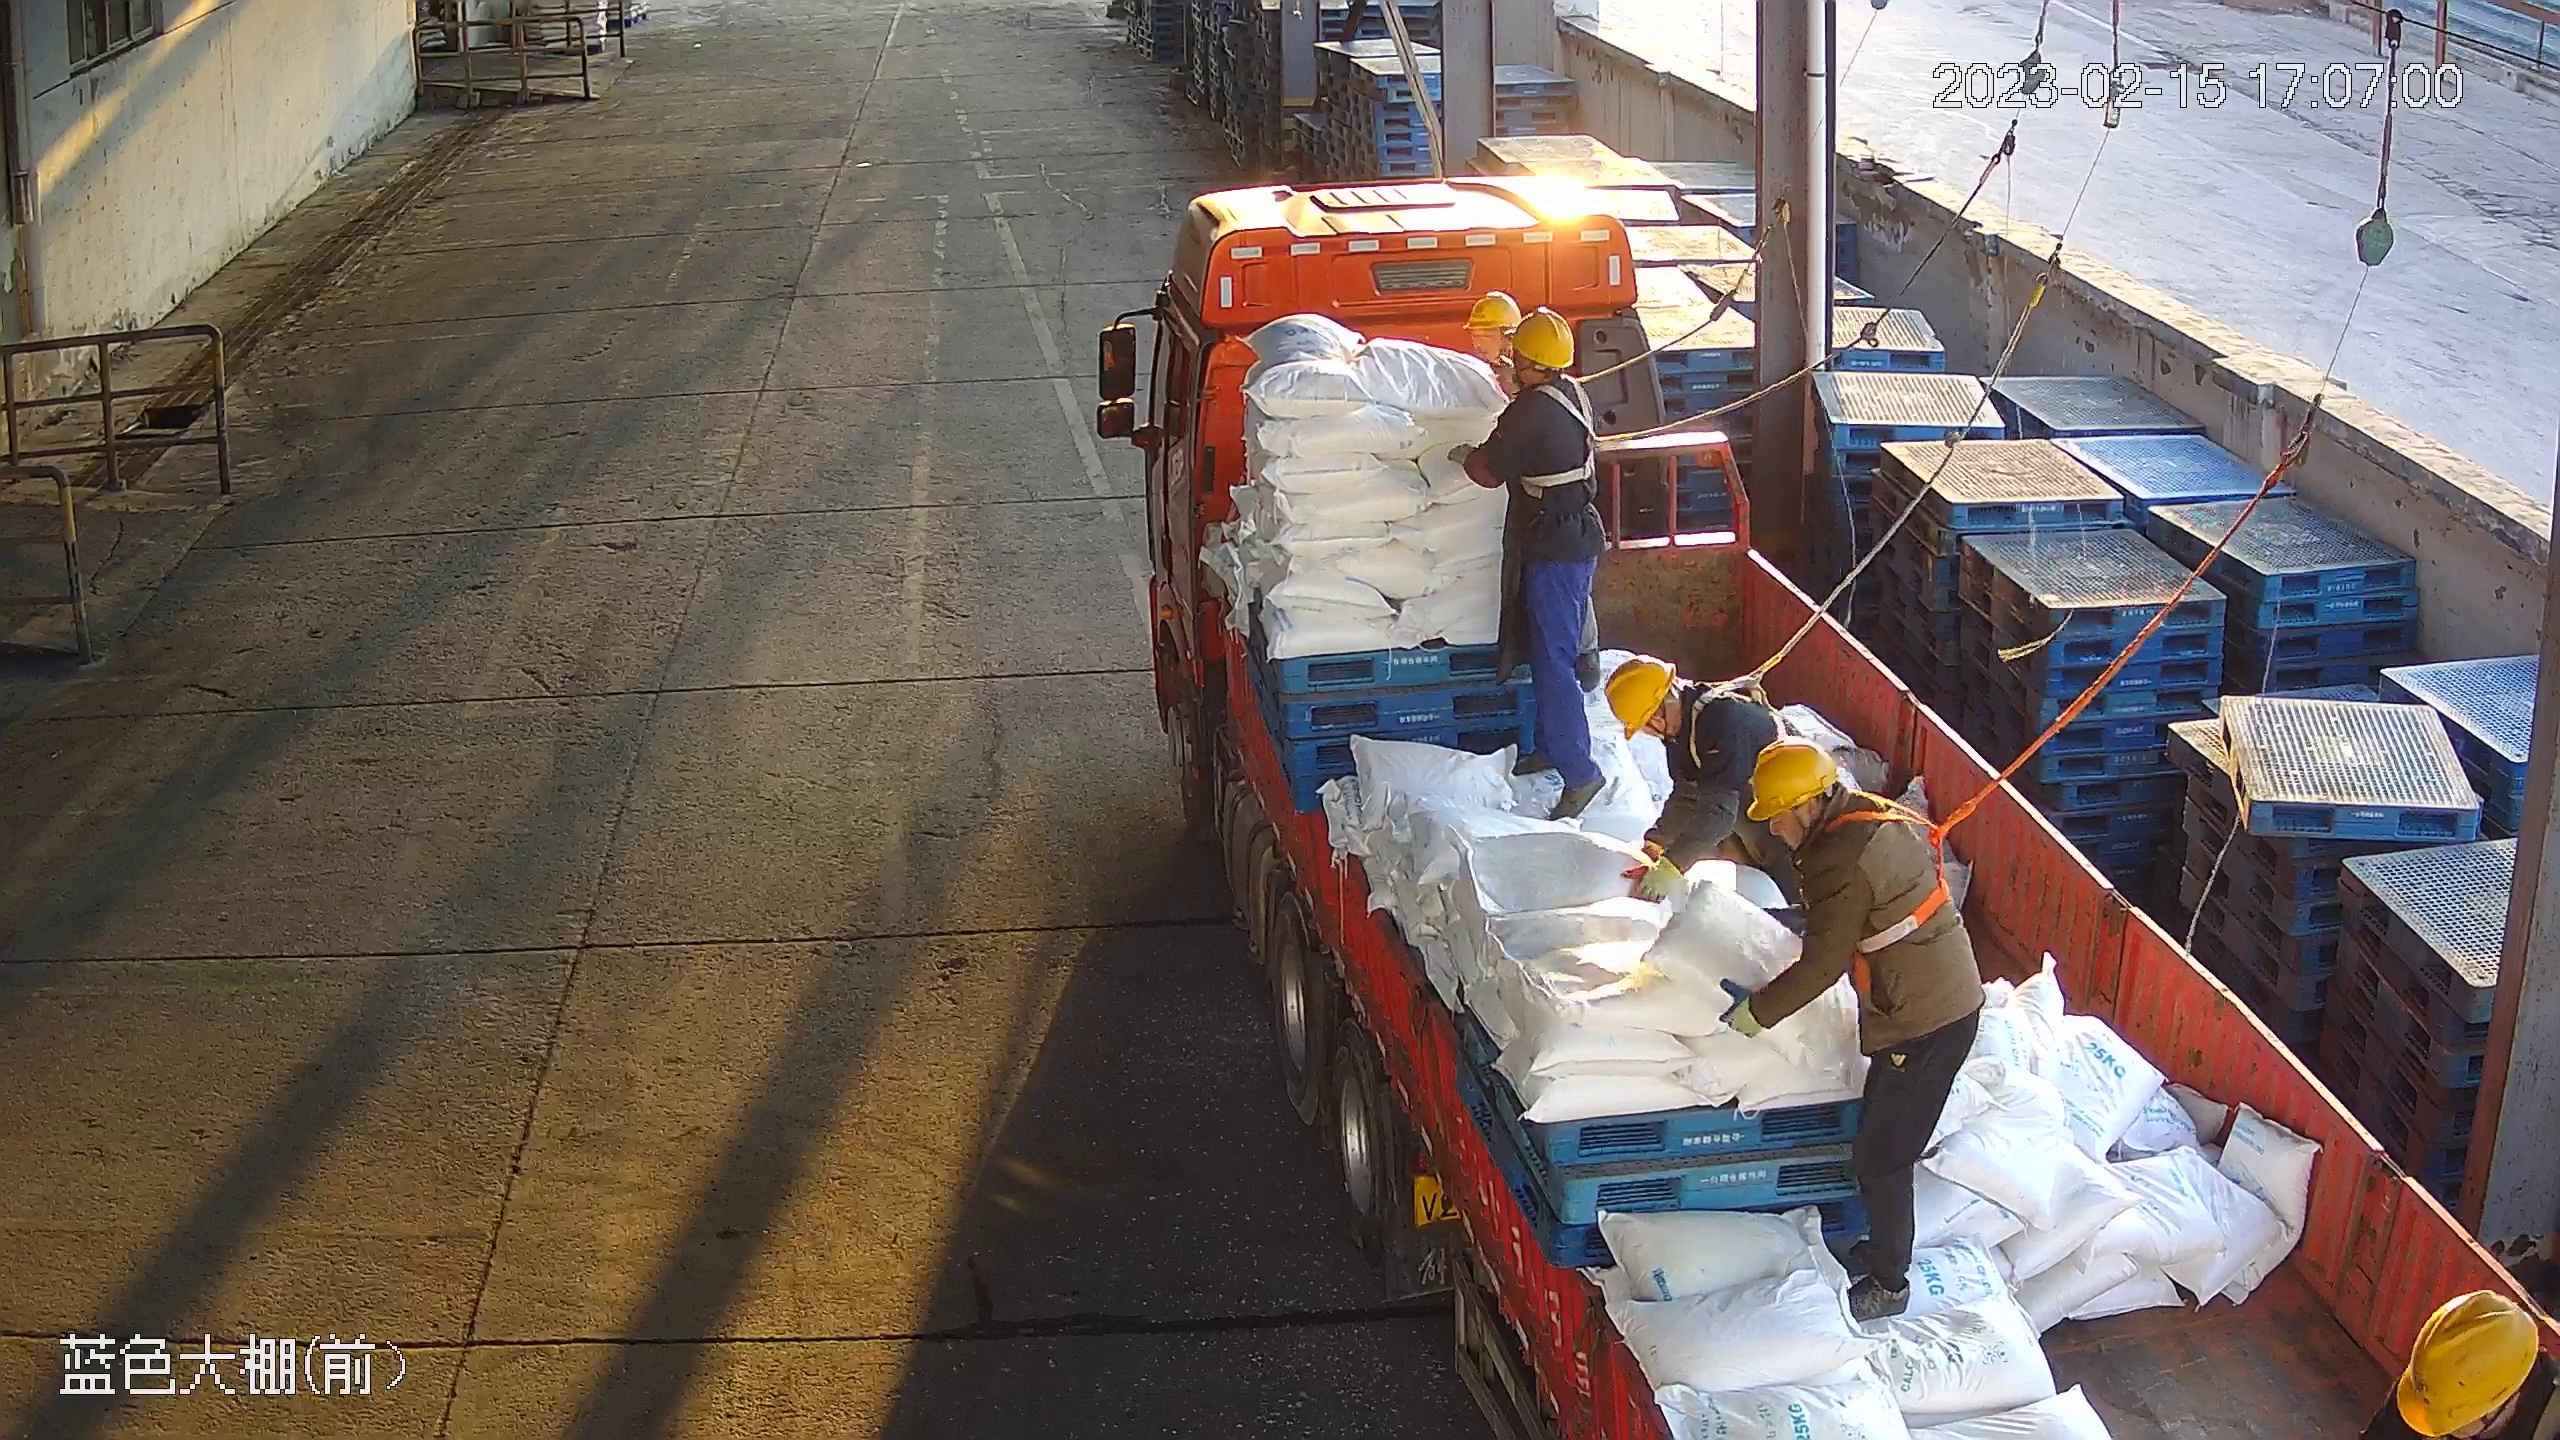belt: (1837, 781, 1975, 956), (1520, 375, 1630, 498), (1690, 661, 1785, 769)
head: (1744, 742, 1927, 919), (1604, 656, 1780, 796), (1459, 308, 1590, 446)
helmet: (2396, 1290, 2542, 1436), (1746, 741, 1842, 826), (1604, 653, 1678, 736), (1513, 308, 1575, 371), (1462, 290, 1523, 333)
people: (1716, 738, 1985, 1321), (1451, 304, 1623, 831)
truck: (1088, 171, 2560, 1440)
